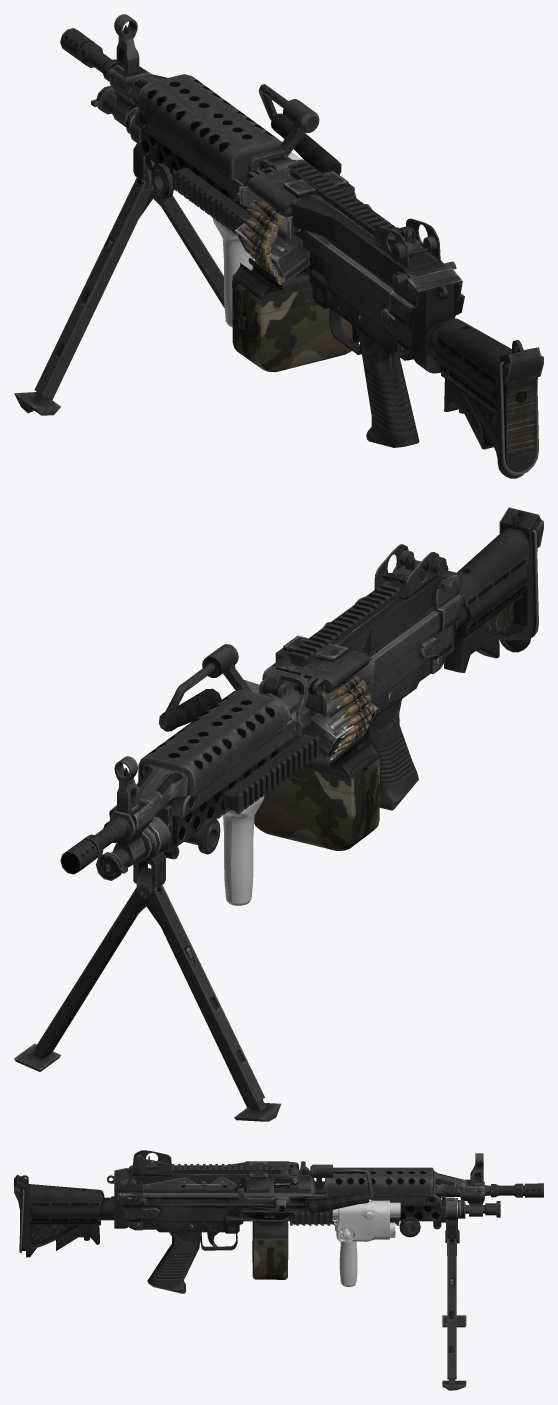
The model's file is MachineGun.FBX.
The picture shows the model from 3 angles, top to bottom: view 1: azimuth 30°, elevation 25°; view 2: azimuth 150°, elevation 25°; view 3: azimuth 270°, elevation 25°; orthographic projection. The views are drawn at different scales.
Visible parts, largest first — view 1: Object02, Object03, Object06, Object05; view 2: Object02, Object03, Object06, Object05; view 3: Object02, Object03, Object05, Object06.
Boxes of the visible parts, x1,y1,x2,y2 form: Object02: (60, 14, 464, 447); Object03: (232, 258, 543, 478); Object06: (14, 177, 224, 415); Object05: (213, 141, 300, 327); Object02: (60, 544, 464, 899); Object03: (254, 507, 543, 850); Object06: (14, 885, 280, 1121); Object05: (157, 744, 264, 905); Object02: (114, 1150, 543, 1293); Object03: (14, 1174, 288, 1279); Object05: (332, 1199, 400, 1286); Object06: (442, 1239, 466, 1390).
Size of the model in its own units: 36.25 by 48.87 by 115.
